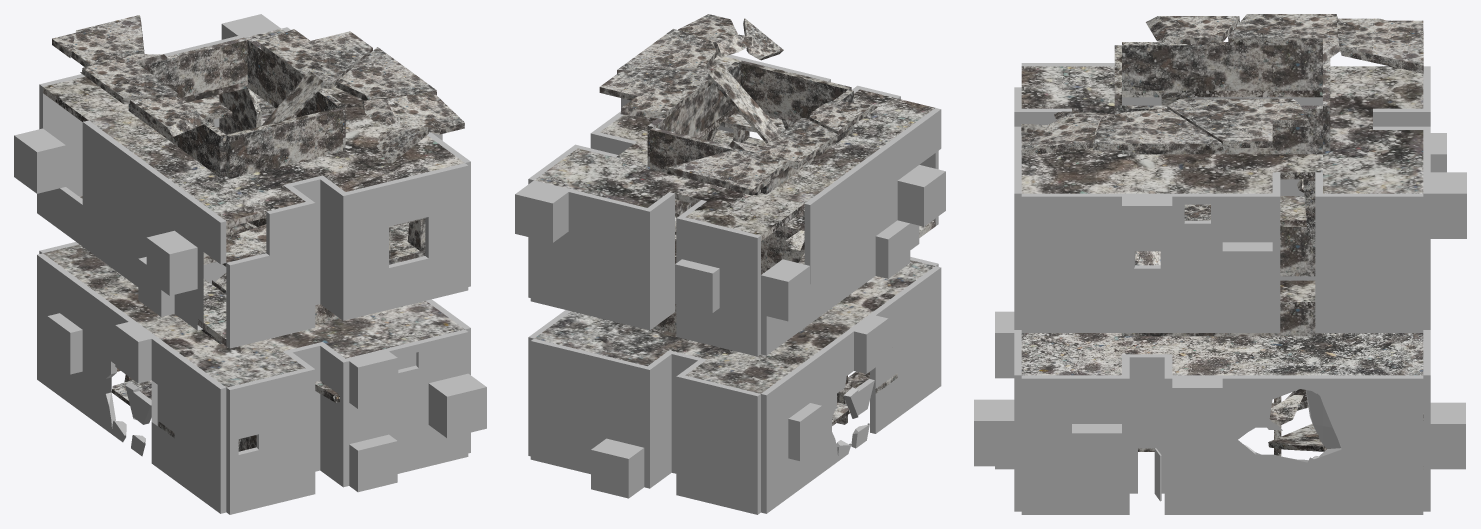
File: tall building.fbx
3 renders of one model, left to right at view 1: azimuth 30°, elevation 25°; view 2: azimuth 150°, elevation 25°; view 3: azimuth 270°, elevation 25°, orthographic. The views are drawn at different scales.
Visible parts, largest first — view 1: Cube.074, Cube.122, Cube.076, Cube.102, Cube.072_cell.020, wall.061_cell.014, Cube.119; view 2: Cube.074, Cube.122, Cube.076, Cube.102, Cube.119, Cube.072_cell.020, wall.061_cell.014; view 3: Cube.074, Cube.122, Cube.119, Cube.072_cell.020, Cube.076, Cube.102.
Boxes of the visible parts, x1,y1,x2,y2 form: Cube.074: [14, 14, 470, 348]; Cube.122: [37, 242, 486, 514]; Cube.076: [188, 88, 425, 266]; Cube.102: [240, 71, 323, 229]; Cube.072_cell.020: [111, 273, 337, 451]; wall.061_cell.014: [125, 382, 151, 424]; Cube.119: [201, 218, 339, 344]; Cube.074: [515, 14, 945, 356]; Cube.122: [528, 257, 941, 514]; Cube.076: [675, 111, 804, 264]; Cube.102: [708, 63, 781, 143]; Cube.119: [653, 230, 804, 333]; Cube.072_cell.020: [761, 272, 897, 425]; wall.061_cell.014: [843, 379, 874, 418]; Cube.074: [1014, 14, 1466, 332]; Cube.122: [974, 272, 1465, 514]; Cube.119: [1122, 227, 1322, 336]; Cube.072_cell.020: [1138, 389, 1423, 469]; Cube.076: [1135, 179, 1315, 265]; Cube.102: [1135, 92, 1192, 265].
Bounding box in the file's own units: 4962 × 5536 × 6550.
